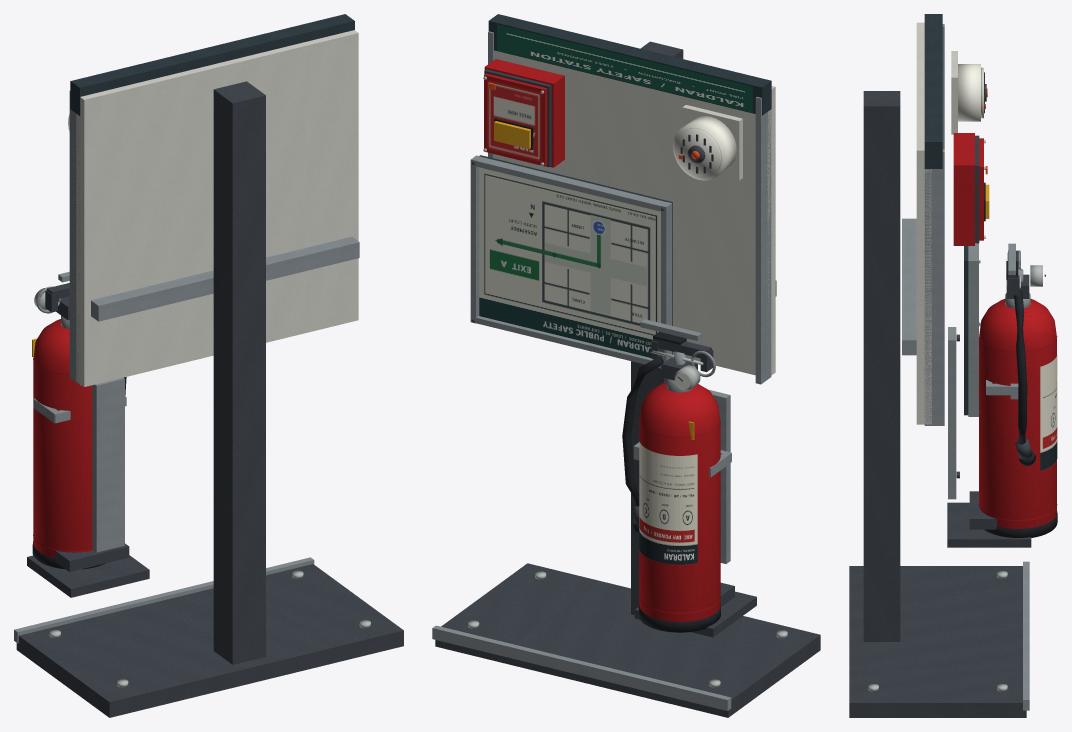
3 renders of one model, left to right at view 1: azimuth 30°, elevation 25°; view 2: azimuth 150°, elevation 25°; view 3: azimuth 270°, elevation 25°, orthographic. The views are drawn at different scales.
Visible parts, largest first — view 1: VIS_FreestandingBackplate__IvoryPowdercoat, VIS_SteelUpright__Graphite, VIS_AnchorFootPlate__Graphite, Extinguisher__VIS_CylinderShell__RedEnamel, Bracket__VIS_StampedWallRail__BracketMetal, VIS_FloorDisplayTopBar__PanelCharcoal, VIS_SupportCrossbeam__BracketMetal, VIS_BottleFootCage__Graphite, VIS_MetalFasciaRim__BracketMetal, VIS_RolledFootEdge__BracketMetal, Bracket__VIS_BottleBaseSeat__Graphite; view 2: VIS_FreestandingBackplate__IvoryPowdercoat, EvacMap__VIS_OriginalEvacuationGraphic__Kaldran_EvacuationDi, VIS_AnchorFootPlate__Graphite, Extinguisher__VIS_CylinderShell__RedEnamel, VIS_SafetyStationHeader__Kaldran_StationHeader, Extinguisher__VIS_ABC_PowderSafetyLabel__Kaldran_Extinguishe, VIS_MetalFasciaRim__BracketMetal, VIS_RolledFootEdge__BracketMetal, VIS_FloorDisplayTopBar__PanelCharcoal, EvacMap__VIS_ExtrudedTopBottomFrame__BracketMetal, EvacMap__VIS_ExtrudedSideFrame__BracketMetal, Alarm__VIS_AlarmInformationFace__Kaldran_AlarmLabel (+13 smaller); view 3: VIS_AnchorFootPlate__Graphite, VIS_SteelUpright__Graphite, Extinguisher__VIS_CylinderShell__RedEnamel, VIS_MetalFasciaRim__BracketMetal, VIS_FreestandingBackplate__IvoryPowdercoat, VIS_FloorDisplayTopBar__PanelCharcoal, Alarm__VIS_AlarmRearHousing__RedEnamel, VIS_SupportCrossbeam__BracketMetal, VIS_BottleFootCage__Graphite, Extinguisher__VIS_ABC_PowderSafetyLabel__Kaldran_Extinguishe, EvacMap__VIS_ExtrudedSideFrame__BracketMetal, Bracket__VIS_StampedWallRail__BracketMetal (+9 smaller).
Part boxes in pixels (x1,y1,x2,y2): VIS_FreestandingBackplate__IvoryPowdercoat: (76,30,358,386); VIS_SteelUpright__Graphite: (213,81,265,664); VIS_AnchorFootPlate__Graphite: (16,564,403,717); Extinguisher__VIS_CylinderShell__RedEnamel: (33,319,92,557); Bracket__VIS_StampedWallRail__BracketMetal: (92,377,124,552); VIS_FloorDisplayTopBar__PanelCharcoal: (70,14,354,115); VIS_SupportCrossbeam__BracketMetal: (91,236,359,321); VIS_BottleFootCage__Graphite: (27,555,149,597); VIS_MetalFasciaRim__BracketMetal: (69,91,80,385); VIS_RolledFootEdge__BracketMetal: (14,557,314,643); Bracket__VIS_BottleBaseSeat__Graphite: (55,543,129,571); VIS_FreestandingBackplate__IvoryPowdercoat: (499,52,775,375); EvacMap__VIS_OriginalEvacuationGraphic__Kaldran_EvacuationDi: (479,167,660,357); VIS_AnchorFootPlate__Graphite: (435,563,820,717); Extinguisher__VIS_CylinderShell__RedEnamel: (639,382,720,621); VIS_SafetyStationHeader__Kaldran_StationHeader: (497,24,752,112); Extinguisher__VIS_ABC_PowderSafetyLabel__Kaldran_Extinguishe: (639,441,697,564); VIS_MetalFasciaRim__BracketMetal: (488,31,771,384); VIS_RolledFootEdge__BracketMetal: (432,625,731,710); VIS_FloorDisplayTopBar__PanelCharcoal: (488,14,771,115); EvacMap__VIS_ExtrudedTopBottomFrame__BracketMetal: (472,157,665,368); EvacMap__VIS_ExtrudedSideFrame__BracketMetal: (470,155,671,368); Alarm__VIS_AlarmInformationFace__Kaldran_AlarmLabel: (487,80,541,161); VIS_AnchorFootPlate__Graphite: (849,566,1026,717); VIS_SteelUpright__Graphite: (863,91,900,641); Extinguisher__VIS_CylinderShell__RedEnamel: (979,299,1056,528); VIS_MetalFasciaRim__BracketMetal: (924,24,944,425); VIS_FreestandingBackplate__IvoryPowdercoat: (916,22,931,424); VIS_FloorDisplayTopBar__PanelCharcoal: (924,14,942,168); Alarm__VIS_AlarmRearHousing__RedEnamel: (953,133,974,245); VIS_SupportCrossbeam__BracketMetal: (902,218,916,355); VIS_BottleFootCage__Graphite: (947,502,1031,547); Extinguisher__VIS_ABC_PowderSafetyLabel__Kaldran_Extinguishe: (1040,355,1057,470); EvacMap__VIS_ExtrudedSideFrame__BracketMetal: (968,258,978,416); Bracket__VIS_StampedWallRail__BracketMetal: (948,327,956,499).
Bounding box in the file's own units: 0.67 × 1.29 × 0.4265.
14 materials, 14 textured.
